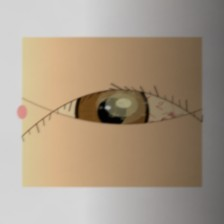corneal_ulcer: (95, 84, 148, 126)
